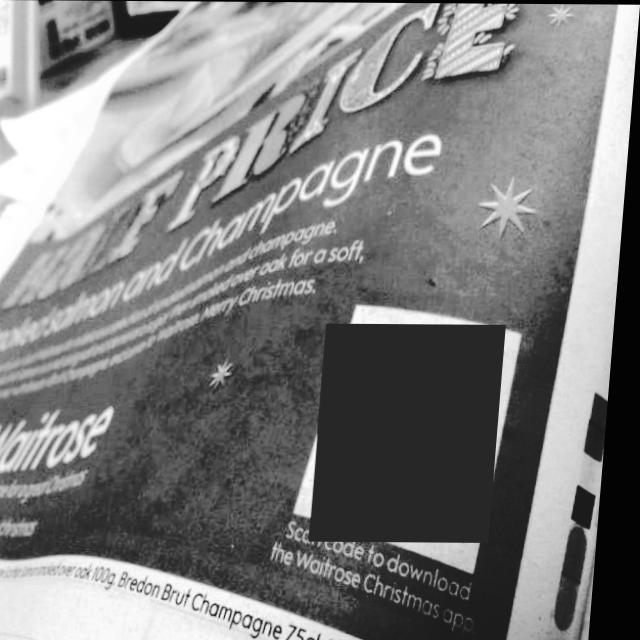qr_code: (317, 323, 511, 542)
